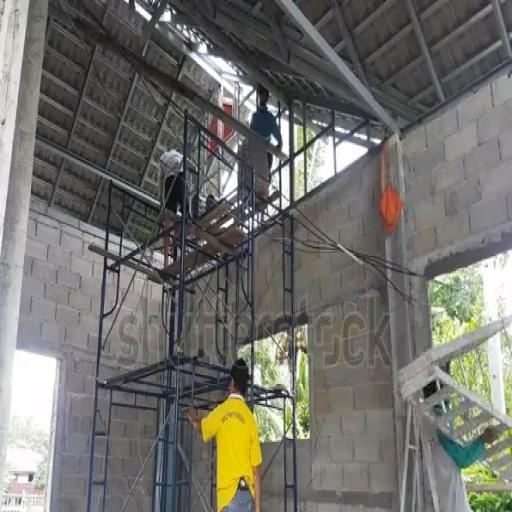head and helmet: (229, 359, 249, 396), (258, 84, 269, 106)
